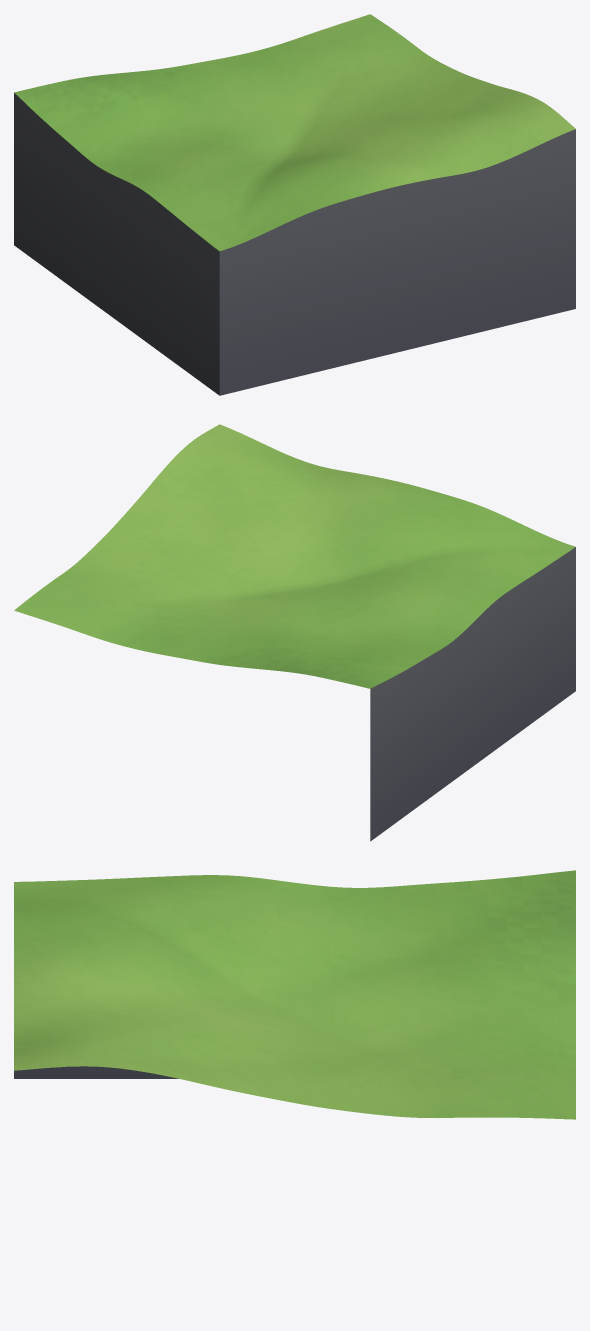
The model's file is terrain_r0_c0.glb.
The picture shows the model from 3 angles, top to bottom: view 1: azimuth 30°, elevation 25°; view 2: azimuth 150°, elevation 25°; view 3: azimuth 270°, elevation 25°; orthographic projection. The views are drawn at different scales.
Parts seen in each view (by area): view 1: terrain_r0_c0; view 2: terrain_r0_c0; view 3: terrain_r0_c0.
Part boxes in pixels (x1,y1,x2,y2): terrain_r0_c0: (14,14,575,395); terrain_r0_c0: (14,424,575,841); terrain_r0_c0: (14,870,575,1119).
Size of the model in its own units: 128 by 62.88 by 128.
1 material, 1 textured.
